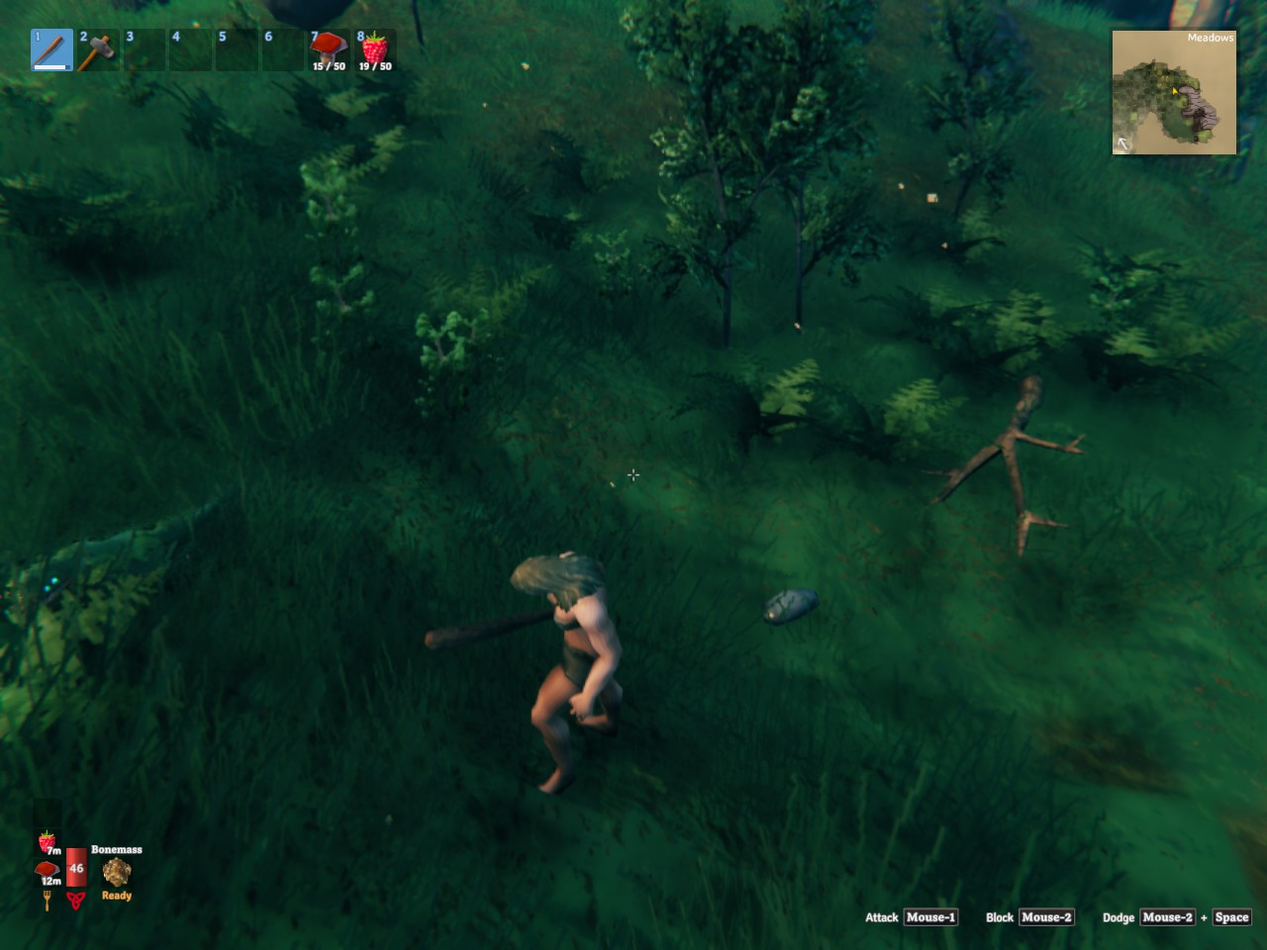Branch: (927, 375, 1082, 555)
Flint: (763, 589, 819, 624)
